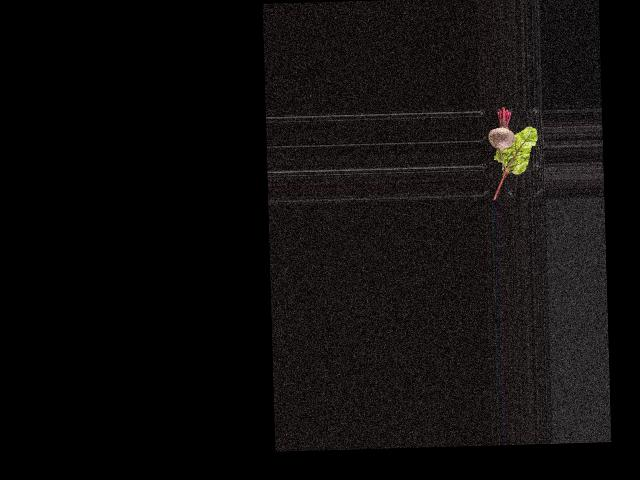beet: (487, 106, 515, 174)
